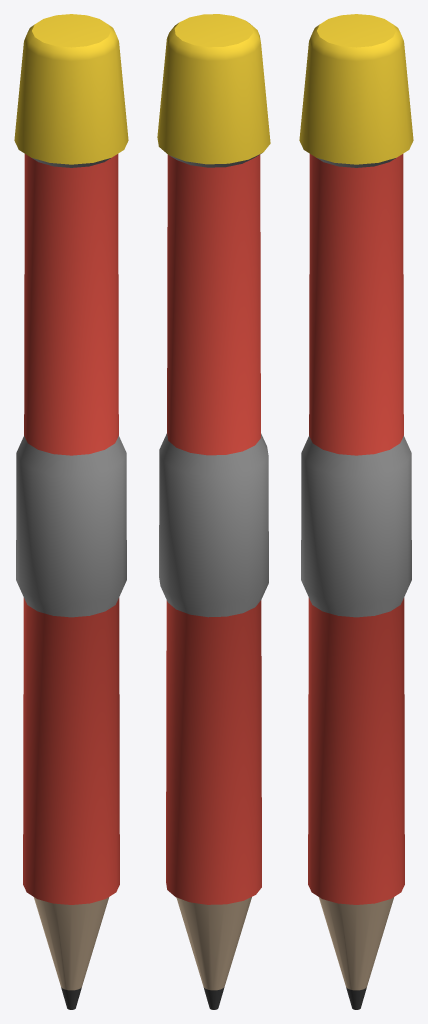
The model's file is Pen02.fbx.
The picture shows the model from 3 angles, left to right: view 1: azimuth 90°, elevation 25°; view 2: azimuth 150°, elevation 25°; view 3: azimuth 270°, elevation 25°; orthographic projection.
Visible parts, largest first — view 1: Pen02; view 2: Pen02; view 3: Pen02.
Boxes of the visible parts, x1=… form: Pen02: x1=14, y1=14, x2=128, y2=1009; Pen02: x1=157, y1=14, x2=270, y2=1009; Pen02: x1=299, y1=14, x2=413, y2=1009.
Size of the model in its own units: 0.0125 by 0.0125 by 0.1186.
